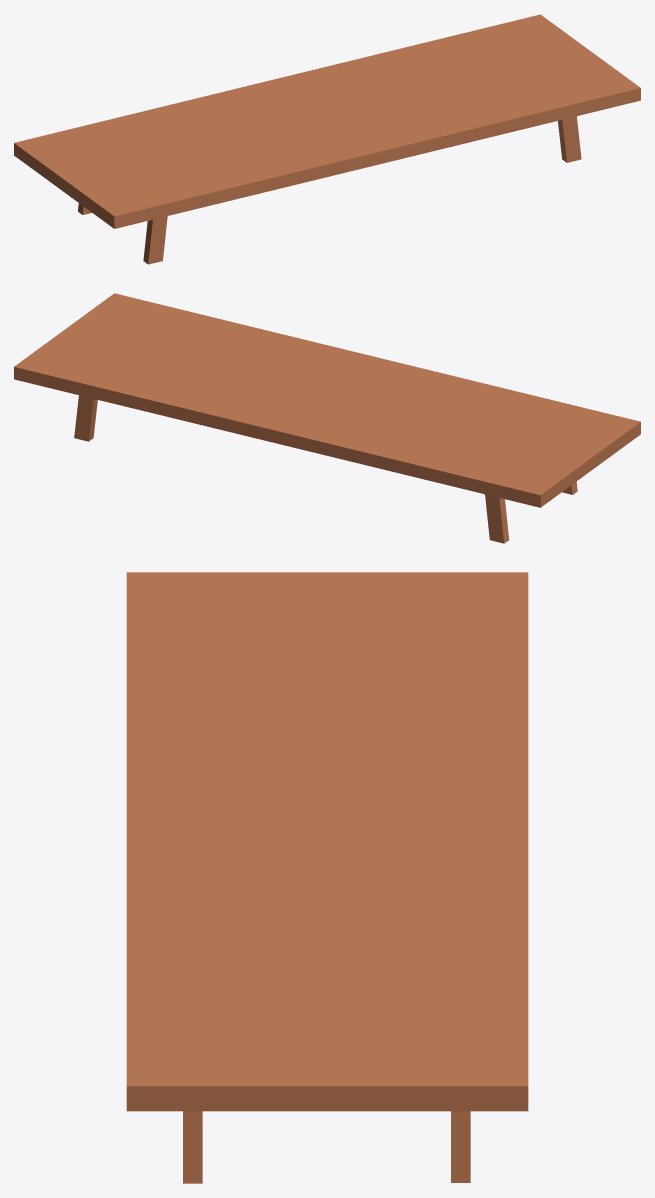
Rendered from Table 1.fbx.
The picture shows the model from 3 angles, top to bottom: view 1: azimuth 30°, elevation 25°; view 2: azimuth 150°, elevation 25°; view 3: azimuth 270°, elevation 25°; orthographic projection. The views are drawn at different scales.
Parts seen in each view (by area): view 1: Table; view 2: Table; view 3: Table.
Part boxes in pixels (x1=…): Table: x1=14, y1=14, x2=640, y2=264; Table: x1=14, y1=293, x2=640, y2=543; Table: x1=126, y1=572, x2=528, y2=1183.
Size of the model in its own units: 1800 by 231 by 595.
